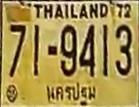1: (102, 24, 107, 76), (34, 24, 39, 76)
3: (115, 24, 131, 74)
4: (78, 24, 94, 74)
7: (9, 24, 27, 78)
9: (60, 25, 76, 75)
NPT: (42, 79, 98, 107)
